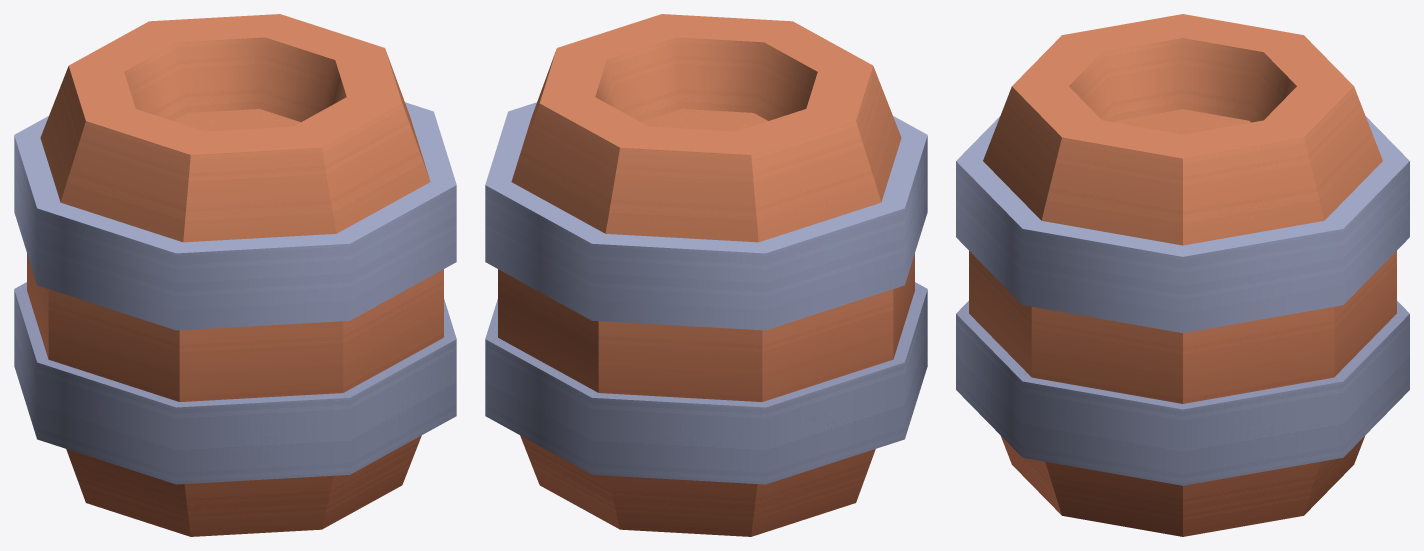
Rendered from barrel.glb.
3 views of the same model, side by side, from view 1: azimuth 30°, elevation 25°; view 2: azimuth 150°, elevation 25°; view 3: azimuth 270°, elevation 25° (orthographic).
Visible parts, largest first — view 1: barrel; view 2: barrel; view 3: barrel.
Part boxes in pixels (bbox=[...]): barrel: bbox=[14, 14, 456, 536]; barrel: bbox=[485, 14, 927, 536]; barrel: bbox=[956, 14, 1409, 536].
Bounding box in the file's own units: 1.34 × 1.23 × 1.34.
1 material, 1 textured.
